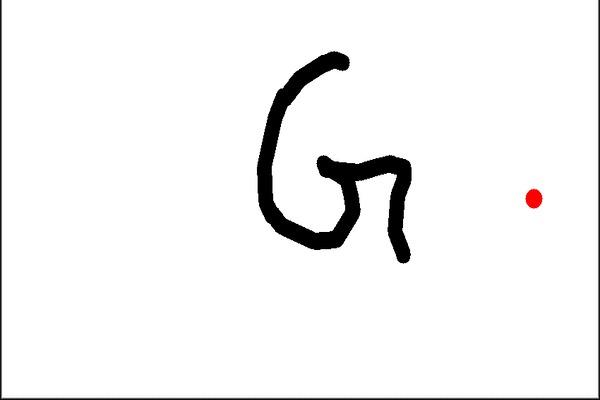G: (250, 48, 417, 269)
